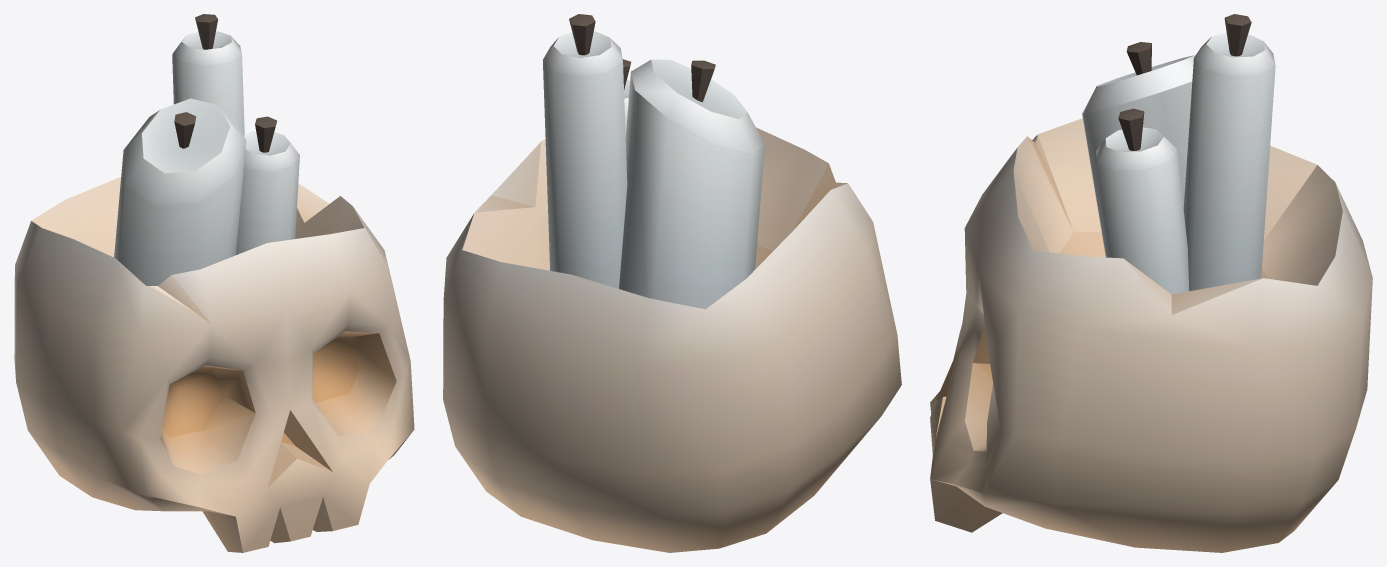
Rendered from kaykit-halloween-bits-skull-candle.glb.
3 views of the same model, side by side, from view 1: azimuth 30°, elevation 25°; view 2: azimuth 150°, elevation 25°; view 3: azimuth 270°, elevation 25° (orthographic). The views are drawn at different scales.
Visible parts, largest first — view 1: skull_candle; view 2: skull_candle; view 3: skull_candle.
Part boxes in pixels (x1,y1,x2,y2): skull_candle: (14, 14, 414, 552); skull_candle: (443, 14, 901, 552); skull_candle: (930, 14, 1372, 552).
Size of the model in its own units: 0.9176 by 1.19 by 0.9361.
Materials: 1 (1 with a texture image).
